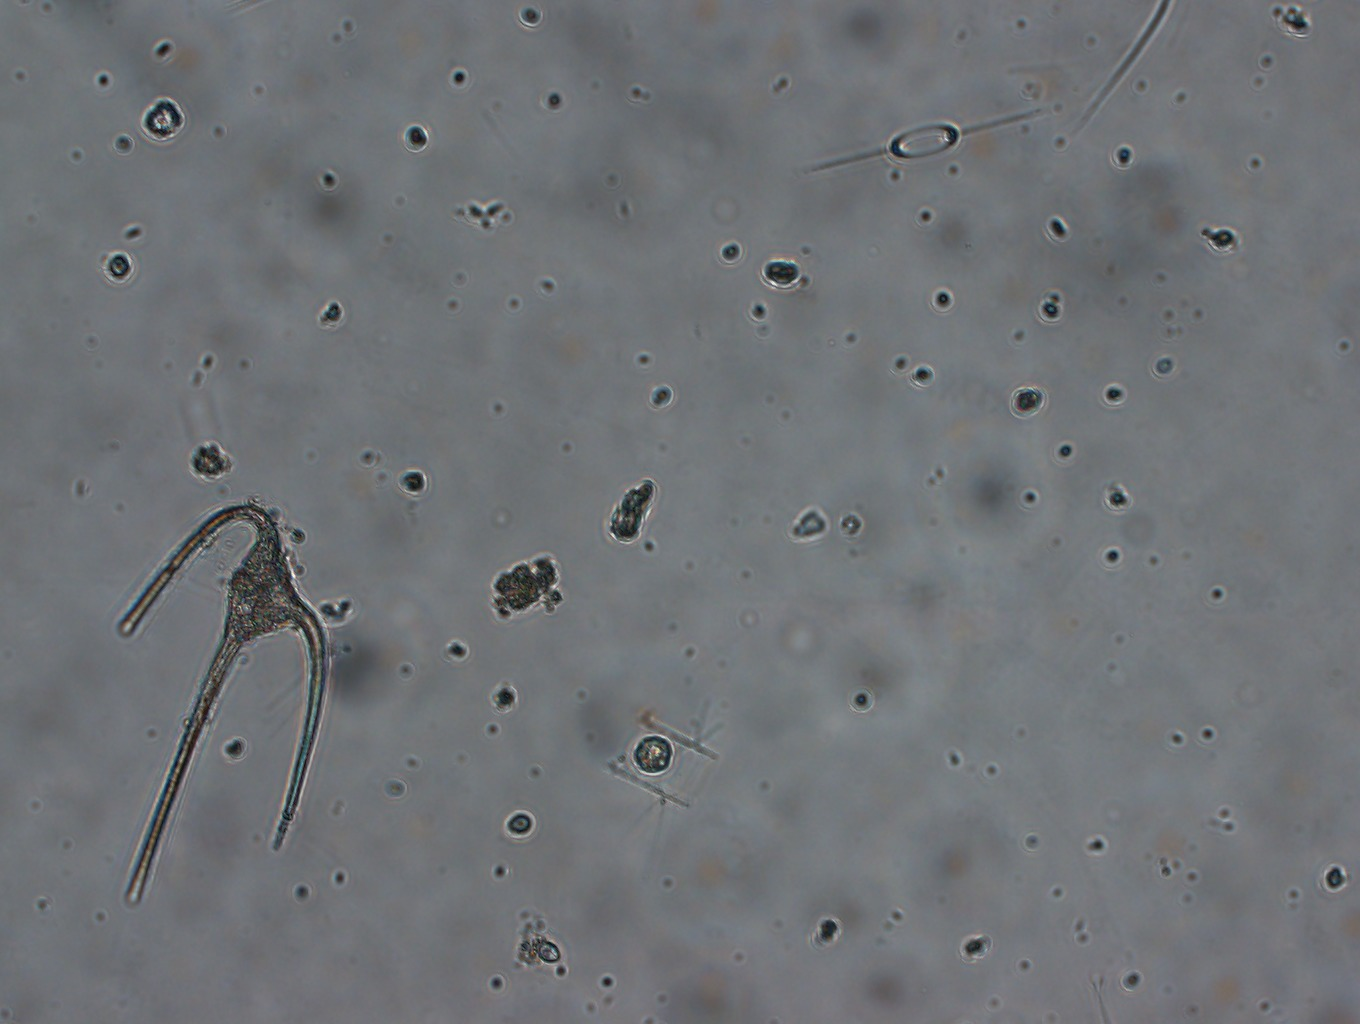ceratium trichoceros: (97, 492, 333, 918)
chaetoceros: (794, 96, 1057, 181), (602, 695, 727, 867)
